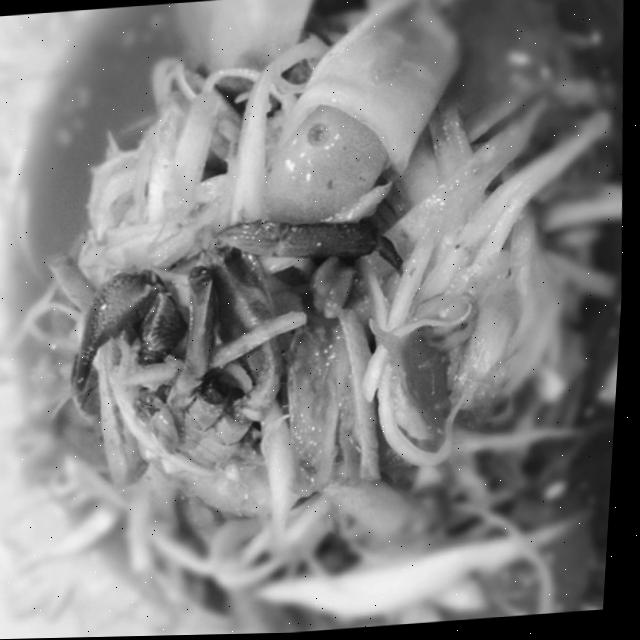蔬菜料理: (0, 0, 640, 628)
